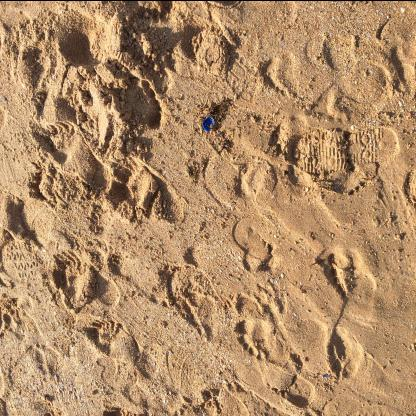plastik: (203, 115, 214, 131)
